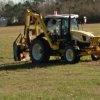Tractor: (18, 8, 90, 72)
